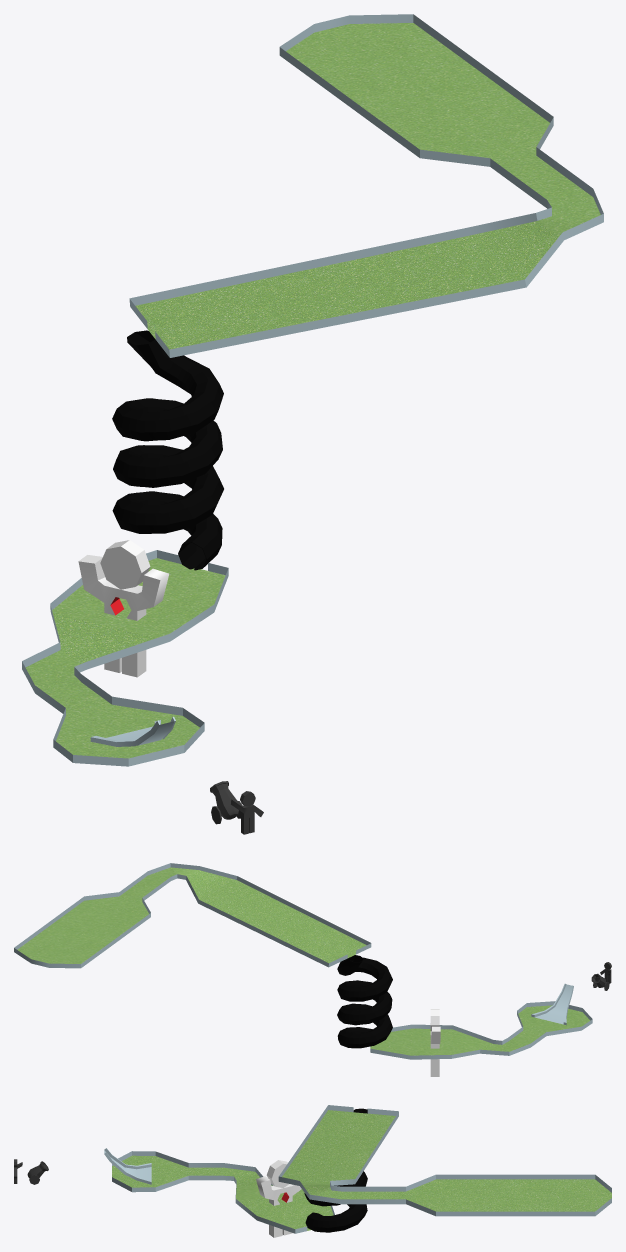
File: ground.fbx
The picture shows the model from 3 angles, top to bottom: view 1: azimuth 30°, elevation 25°; view 2: azimuth 150°, elevation 25°; view 3: azimuth 270°, elevation 25°; orthographic projection. The views are drawn at different scales.
Parts seen in each view (by area): view 1: polySurface156; view 2: polySurface156; view 3: polySurface156.
Boxes of the visible parts, x1,y1,x2,y2 form: polySurface156: (22, 14, 603, 834); polySurface156: (14, 863, 611, 1076); polySurface156: (14, 1105, 611, 1237).
Size of the model in its own units: 252 by 101 by 307.
Materials: 4 (2 with a texture image).
